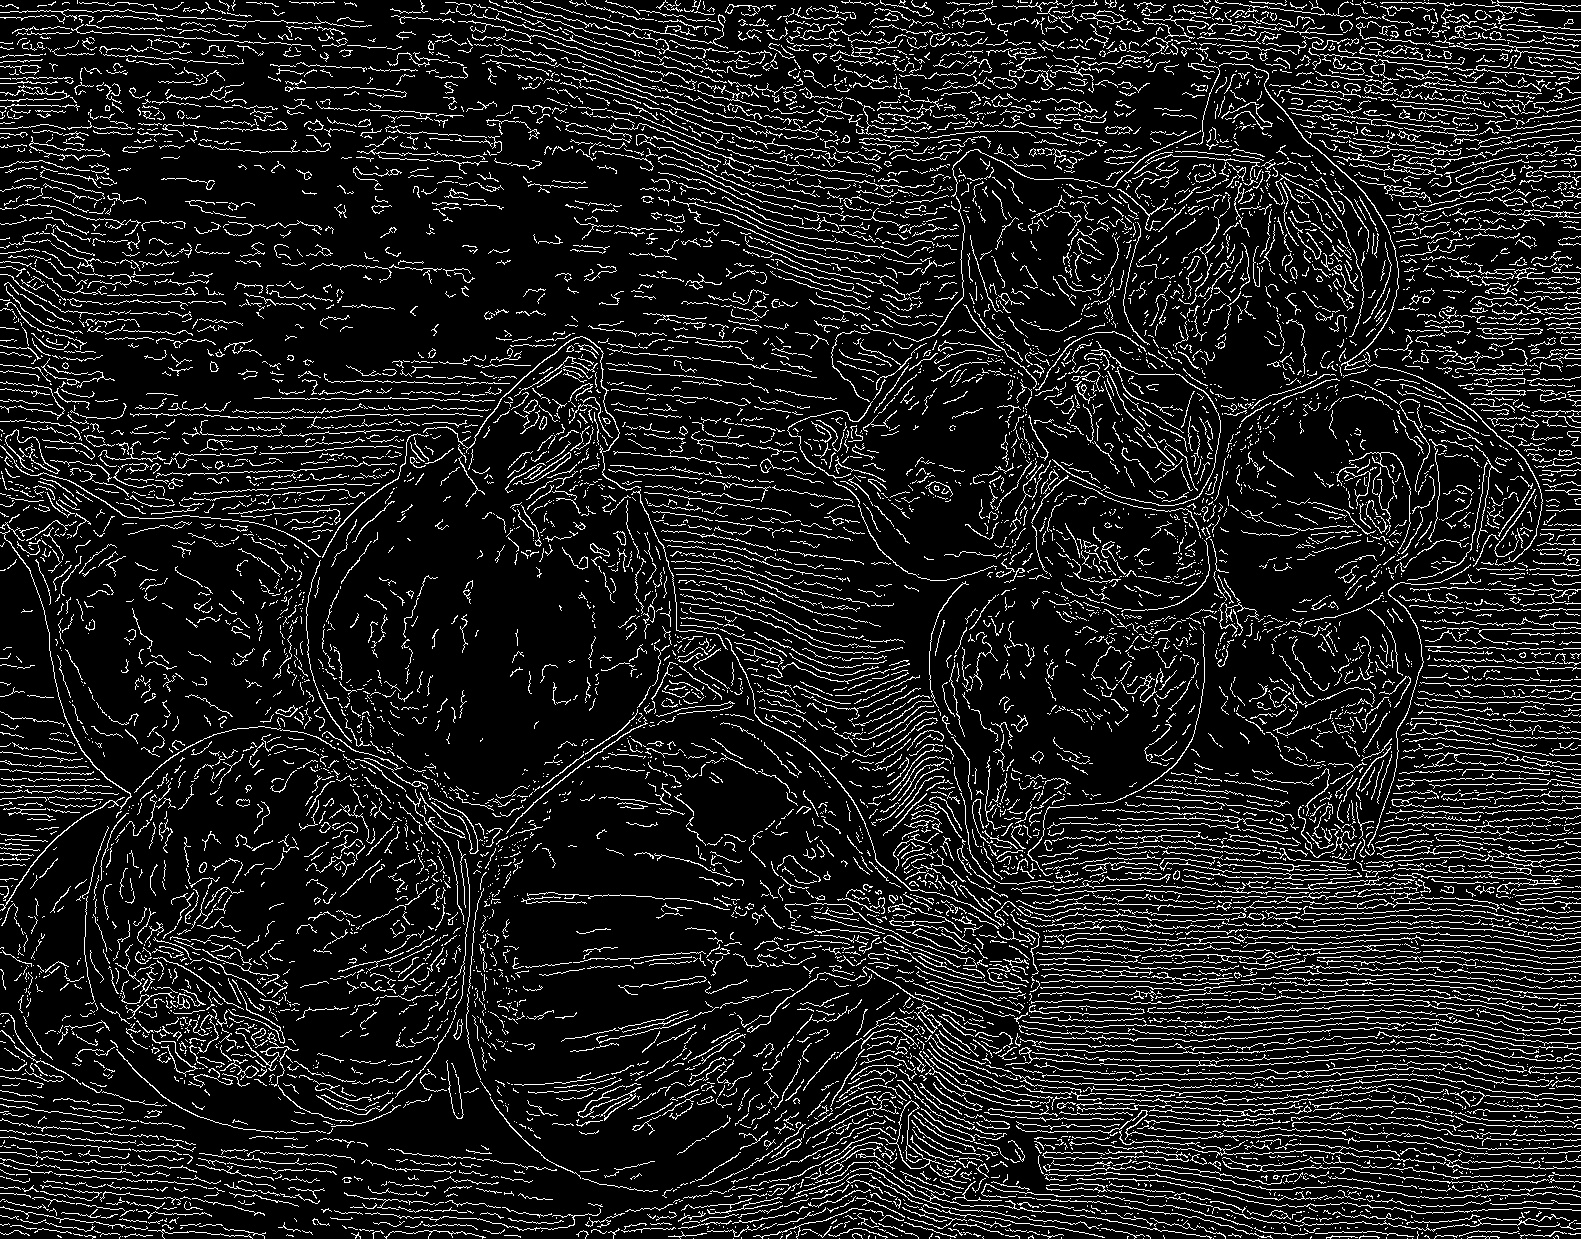onion: (490, 719, 951, 1206), (80, 679, 477, 1158), (332, 354, 676, 783)
